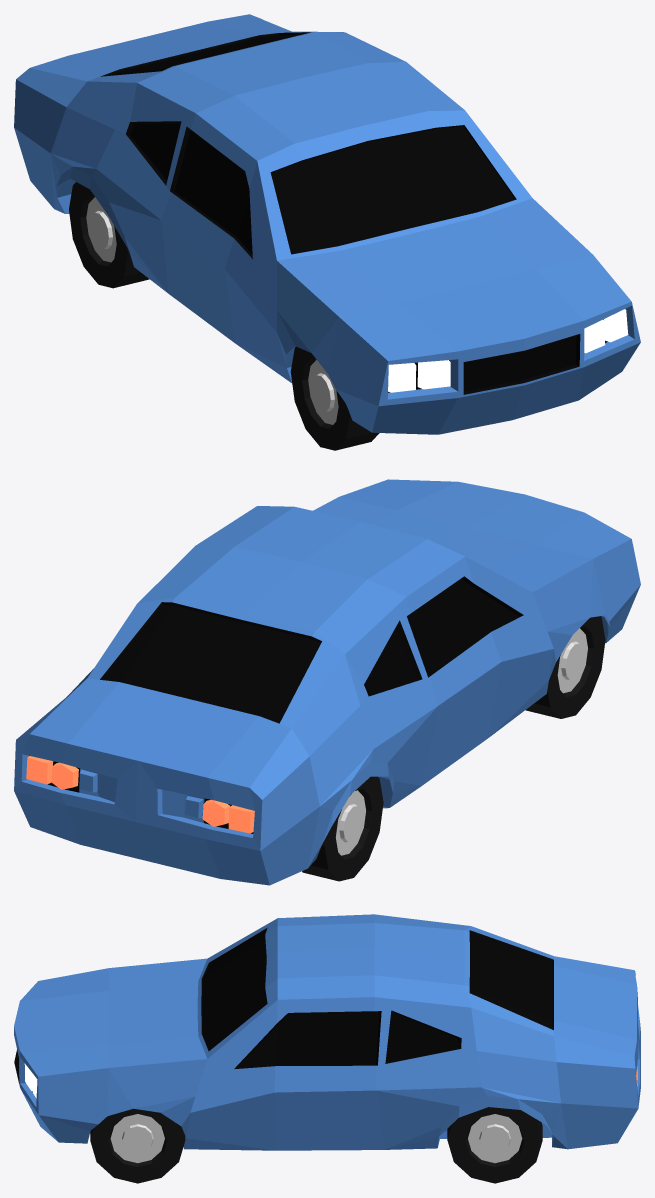
File: mazda-sport.glb
3 renders of one model, top to bottom at view 1: azimuth 30°, elevation 25°; view 2: azimuth 150°, elevation 25°; view 3: azimuth 270°, elevation 25°, orthographic. The views are drawn at different scales.
Visible parts, largest first — view 1: Body, Wheel FR, Wheel BR; view 2: Body, Wheel BR, Wheel FR; view 3: Body, Wheel BL, Wheel FL.
Boxes of the visible parts, box(x1,y1,x2,y2) form: Body: box(14, 14, 640, 434); Wheel FR: box(290, 346, 379, 450); Wheel BR: box(69, 182, 149, 288); Body: box(14, 479, 640, 885); Wheel BR: box(302, 776, 383, 881); Wheel FR: box(525, 616, 605, 718); Body: box(14, 914, 640, 1150); Wheel BL: box(447, 1107, 542, 1183); Wheel FL: box(90, 1108, 185, 1183).
Size of the model in its own units: 2.01 by 1.57 by 4.82.
